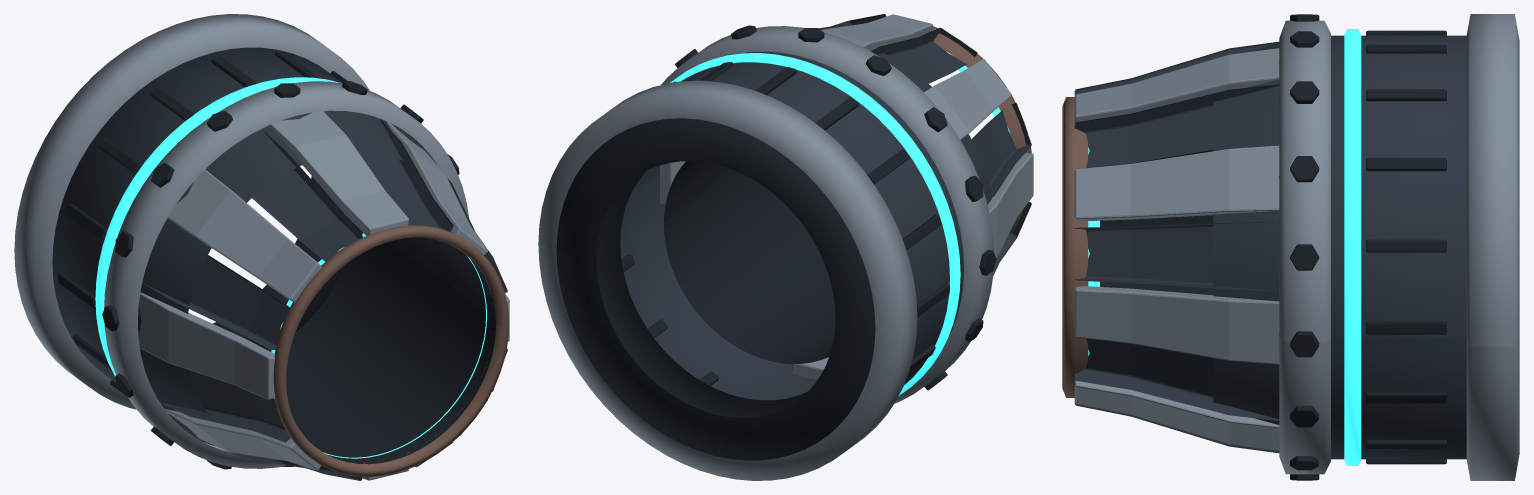
File: JetNozzle.fbx
The picture shows the model from 3 angles, left to right: view 1: azimuth 30°, elevation 25°; view 2: azimuth 150°, elevation 25°; view 3: azimuth 270°, elevation 25°; orthographic projection. The views are drawn at different scales.
Visible parts, largest first — view 1: JetNozzle; view 2: JetNozzle; view 3: JetNozzle.
Part boxes in pixels (x1,y1,x2,y2): JetNozzle: [14, 14, 509, 480]; JetNozzle: [538, 14, 1033, 480]; JetNozzle: [1062, 14, 1519, 480].
Size of the model in its own units: 0.496 by 0.496 by 0.485.
